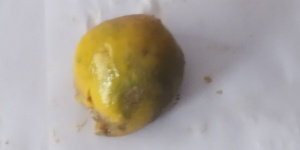BAD: (72, 15, 186, 136)
